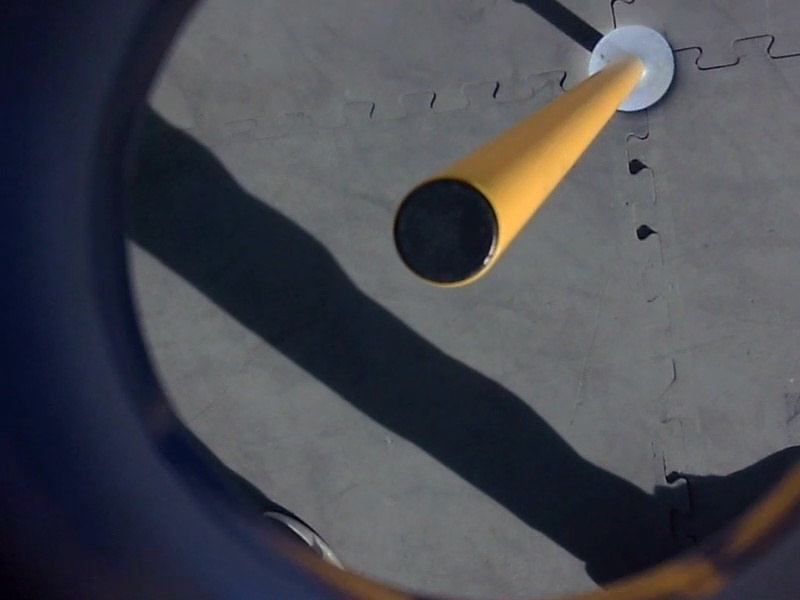tip: (384, 173, 504, 292)
